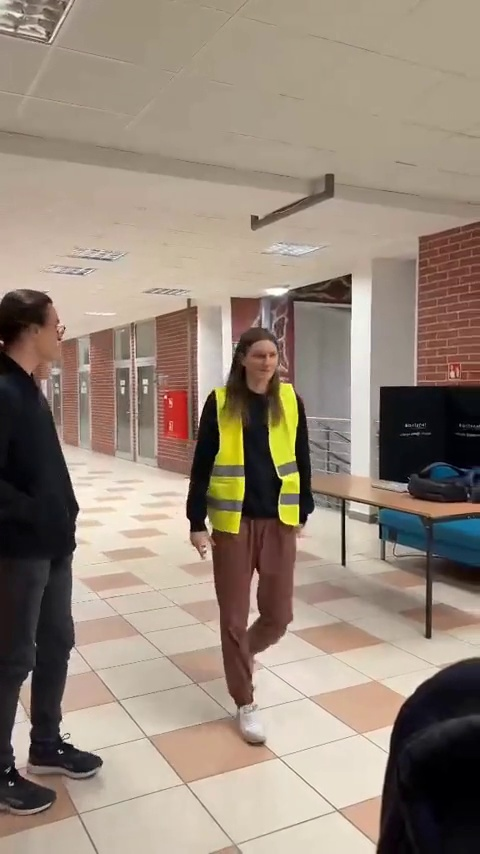no vest: (0, 286, 111, 819)
vest: (183, 326, 311, 755)
